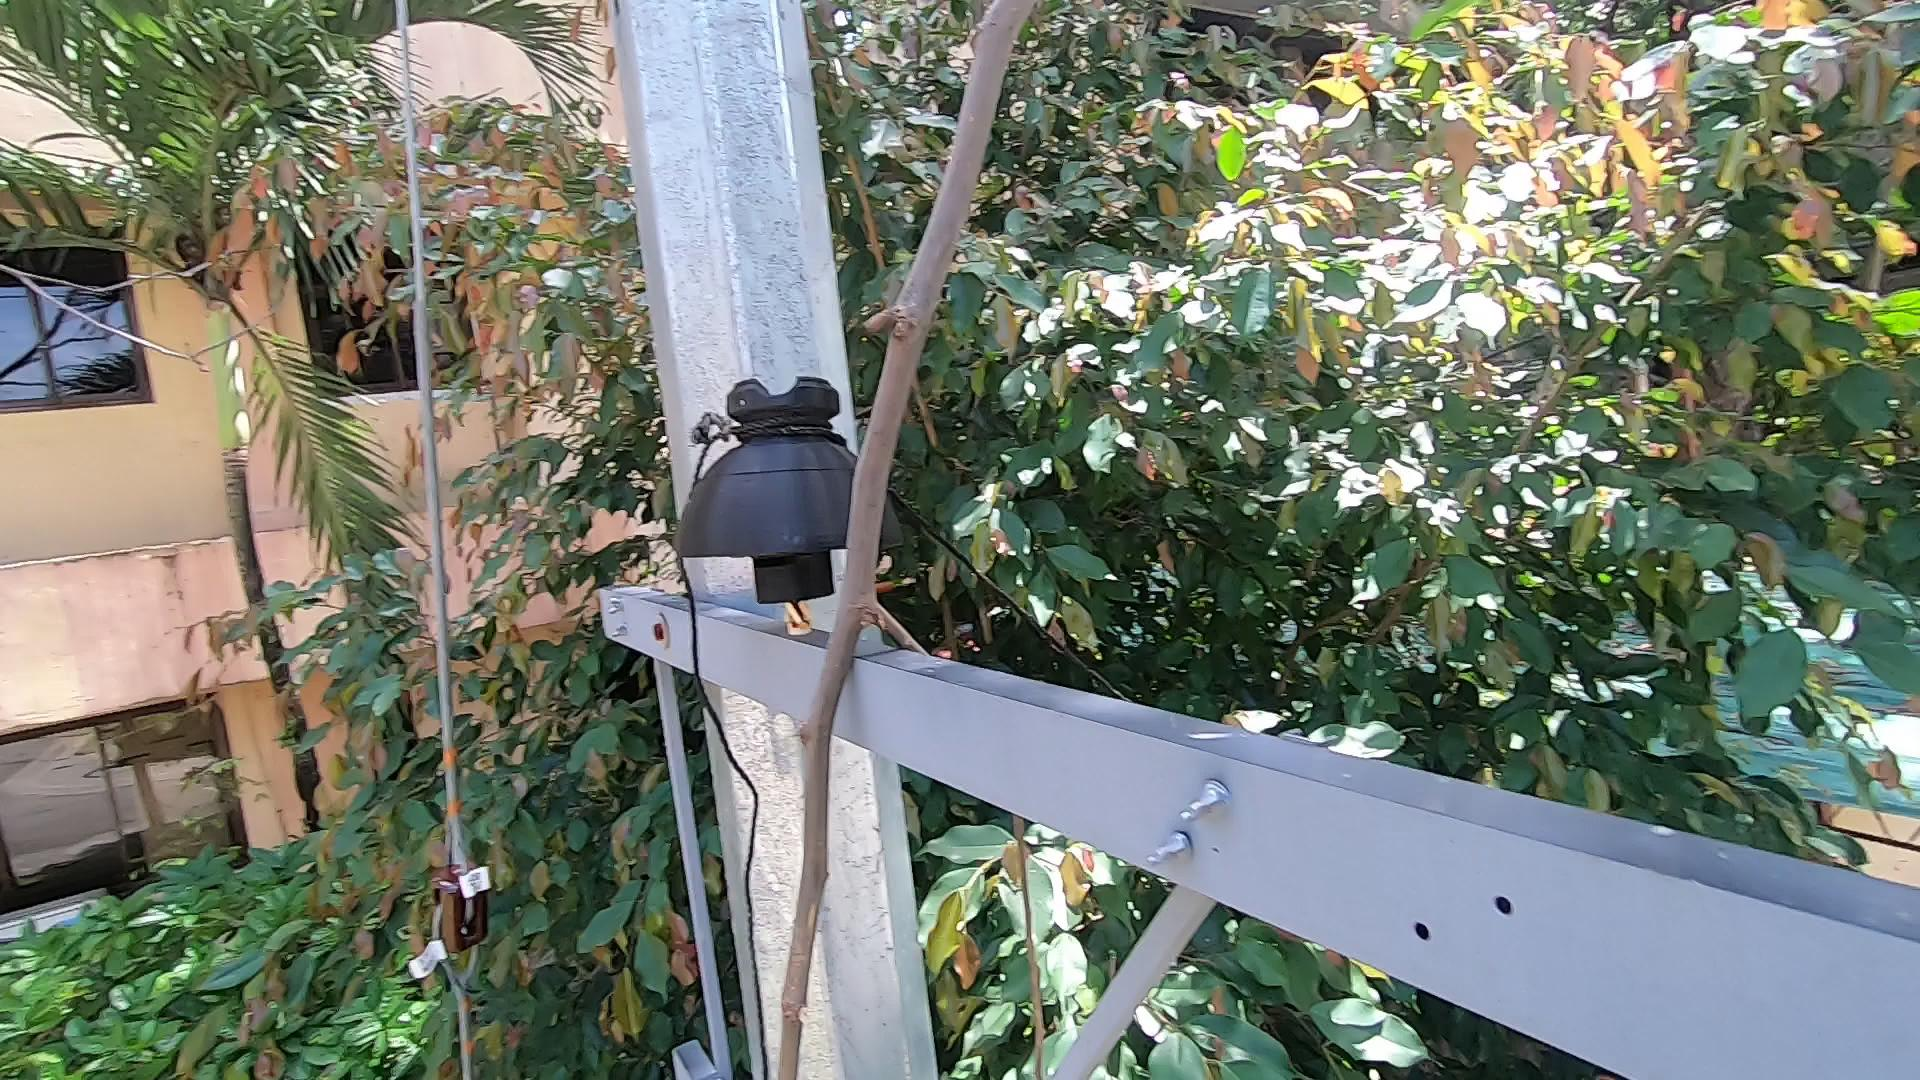tree branch: (733, 3, 1033, 1080)
